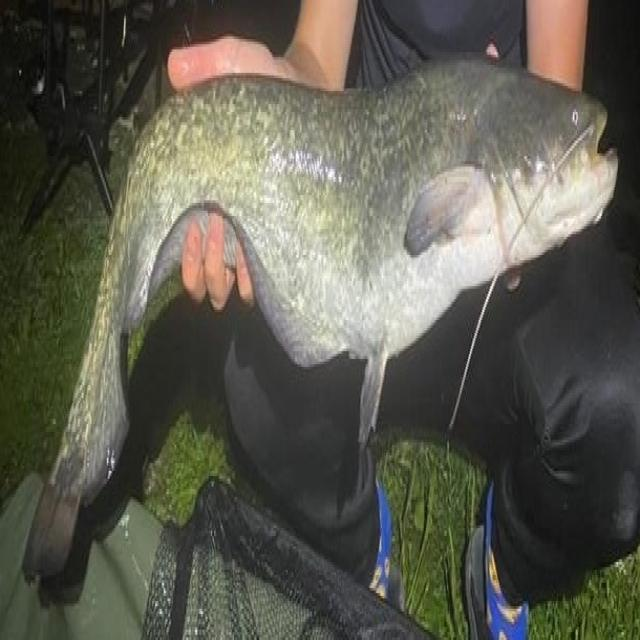Catfish: (40, 36, 619, 536)
